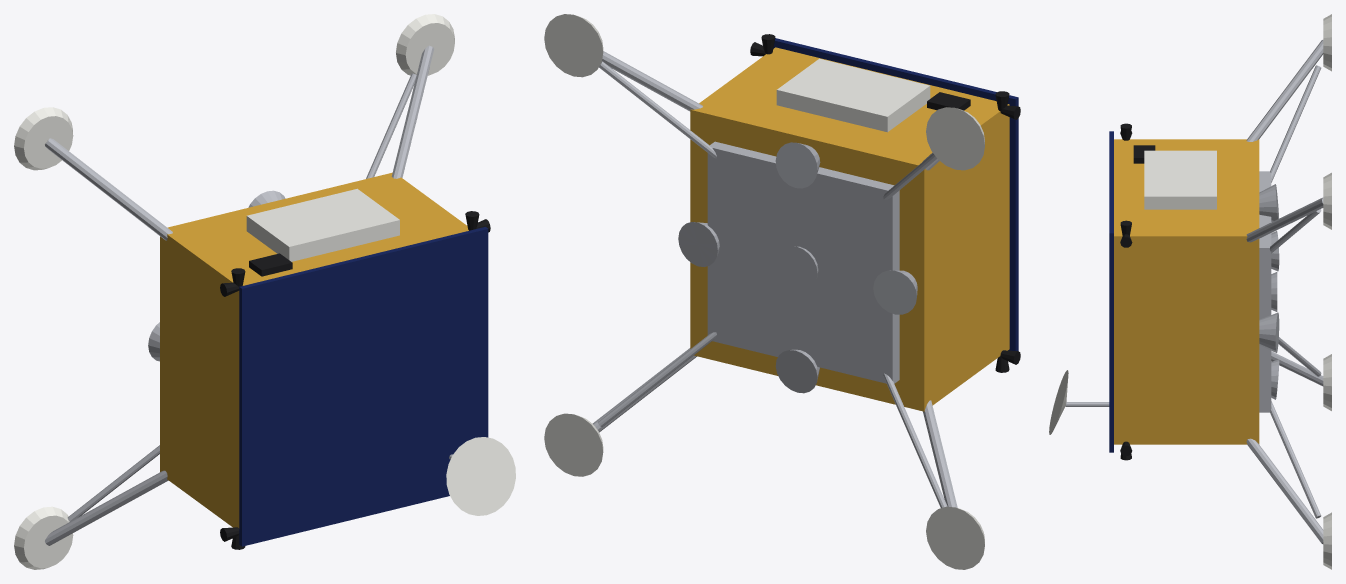
File: lander.obj
3 views of the same model, side by side, from view 1: azimuth 30°, elevation 25°; view 2: azimuth 150°, elevation 25°; view 3: azimuth 270°, elevation 25° (orthographic). The views are drawn at different scales.
Parts seen in each view (by area): view 1: solar_panel_top, deck, ramp, antenna_dish, foot_1, foot_0, foot_2, leg_1, leg_2, leg_0, leg_brace_2, leg_brace_0 (+1 smaller); view 2: deck, base_plate, ramp, solar_panel_top, foot_3, foot_0, foot_1, foot_2, engine_3, engine_2, engine_0, engine_4 (+7 smaller); view 3: deck, ramp, base_plate, solar_panel_top, leg_3, leg_1, leg_0, leg_brace_3, leg_brace_1, engine_1, engine_2, antenna_dish (+6 smaller).
Part boxes in pixels (box(x1,y1,x2,y2)): solar_panel_top: box(239, 227, 488, 546); deck: box(160, 172, 468, 528); ramp: box(246, 188, 399, 261); antenna_dish: box(446, 437, 515, 515); foot_1: box(14, 107, 73, 170); foot_0: box(396, 14, 454, 75); foot_2: box(14, 506, 73, 569); leg_1: box(45, 138, 172, 240); leg_2: box(45, 470, 168, 545); leg_0: box(391, 45, 434, 178); leg_brace_2: box(67, 445, 159, 521); leg_brace_0: box(366, 73, 416, 178); deck: box(690, 47, 1009, 411); base_plate: box(707, 141, 899, 383); ramp: box(776, 58, 930, 132); solar_panel_top: box(773, 38, 1018, 351); foot_3: box(544, 413, 603, 476); foot_0: box(544, 14, 603, 77); foot_1: box(926, 107, 984, 170); foot_2: box(926, 506, 984, 569); engine_3: box(873, 270, 917, 314); engine_2: box(775, 142, 820, 188); engine_0: box(775, 246, 818, 290); engine_4: box(775, 349, 819, 393); deck: box(1114, 139, 1259, 444); ramp: box(1144, 150, 1216, 209); base_plate: box(1259, 171, 1271, 412); solar_panel_top: box(1109, 131, 1113, 452); leg_3: box(1246, 438, 1323, 543); leg_1: box(1246, 40, 1323, 141); leg_0: box(1246, 197, 1323, 242); leg_brace_3: box(1270, 401, 1321, 518); leg_brace_1: box(1270, 65, 1321, 182); engine_1: box(1259, 312, 1279, 352); engine_2: box(1259, 184, 1278, 221); antenna_dish: box(1049, 370, 1068, 434).
Size of the model in its own units: 3.58 by 3.58 by 2.34.
